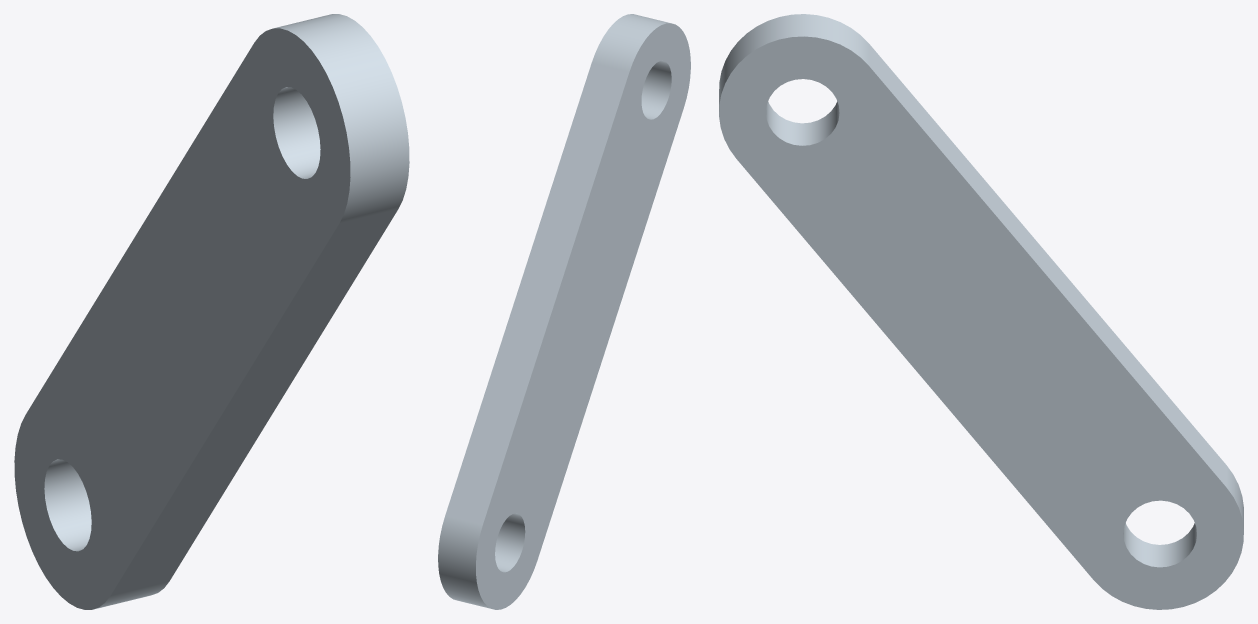
Rendered from Bottom Mid Connector.glb.
3 renders of one model, left to right at view 1: azimuth 30°, elevation 25°; view 2: azimuth 150°, elevation 25°; view 3: azimuth 270°, elevation 25°, orthographic. The views are drawn at different scales.
Visible parts, largest first — view 1: Bottom Mid Connector; view 2: Bottom Mid Connector; view 3: Bottom Mid Connector.
Part boxes in pixels (x1=…): Bottom Mid Connector: x1=14, y1=14, x2=409, y2=609; Bottom Mid Connector: x1=438, y1=14, x2=690, y2=609; Bottom Mid Connector: x1=719, y1=14, x2=1243, y2=609.
Size of the model in its own units: 0.00318 by 0.0378 by 0.0313.
